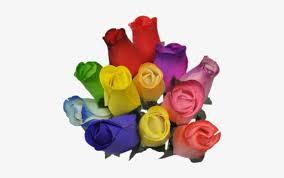lale: (80, 118, 152, 160), (94, 26, 146, 73), (163, 77, 213, 123), (150, 37, 191, 91), (181, 51, 228, 98), (125, 11, 170, 60), (70, 55, 119, 100), (56, 91, 118, 125), (135, 104, 176, 149), (179, 116, 222, 157), (131, 62, 165, 102)
